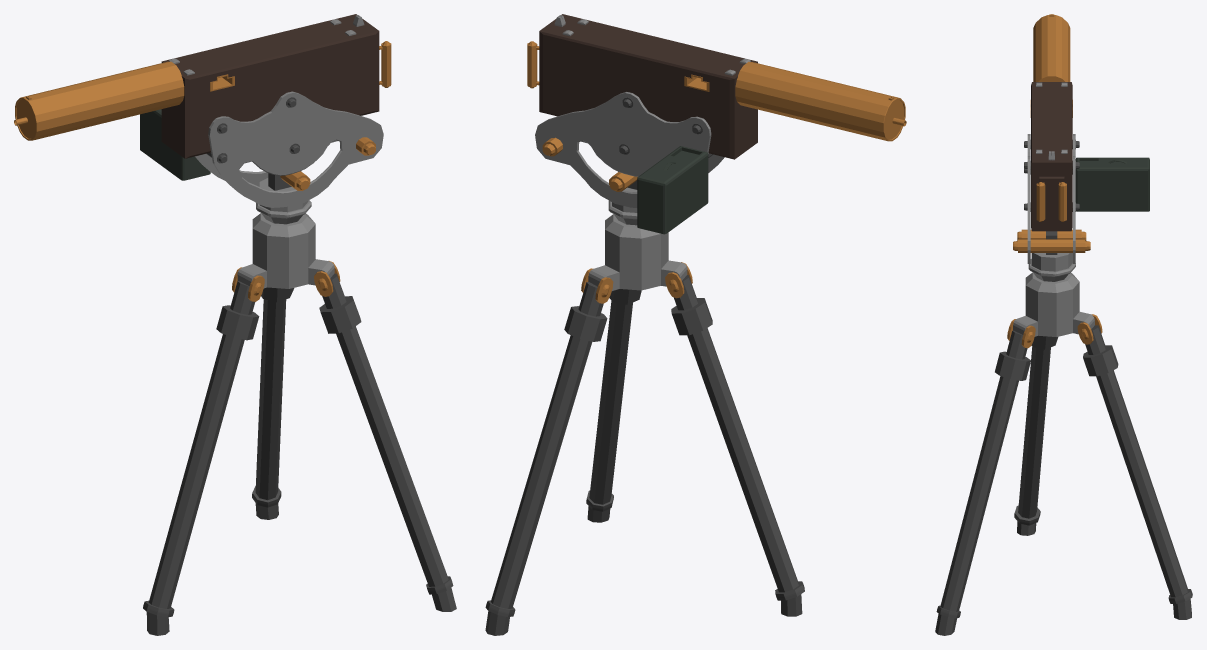
File: Gulting_Gun.fbx
3 views of the same model, side by side, from view 1: azimuth 30°, elevation 25°; view 2: azimuth 150°, elevation 25°; view 3: azimuth 270°, elevation 25° (orthographic). The views are drawn at different scales.
Visible parts, largest first — view 1: Gulting_Gun_Merged; view 2: Gulting_Gun_Merged; view 3: Gulting_Gun_Merged.
Part boxes in pixels (x1=…): Gulting_Gun_Merged: x1=14, y1=14, x2=456, y2=635; Gulting_Gun_Merged: x1=485, y1=14, x2=906, y2=635; Gulting_Gun_Merged: x1=935, y1=14, x2=1192, y2=635.
Size of the model in its own units: 141 by 197 by 97.69.
